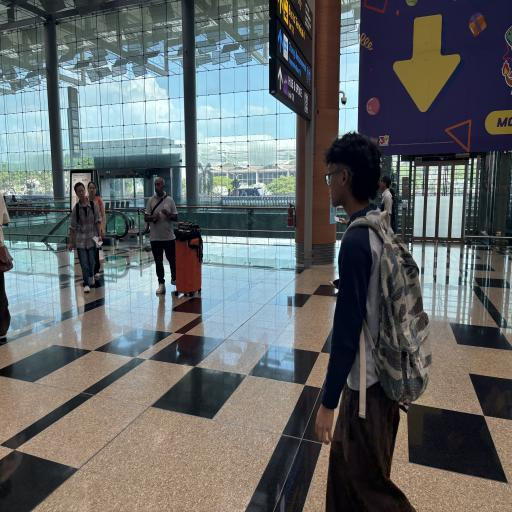person_left: (311, 124, 421, 512)
